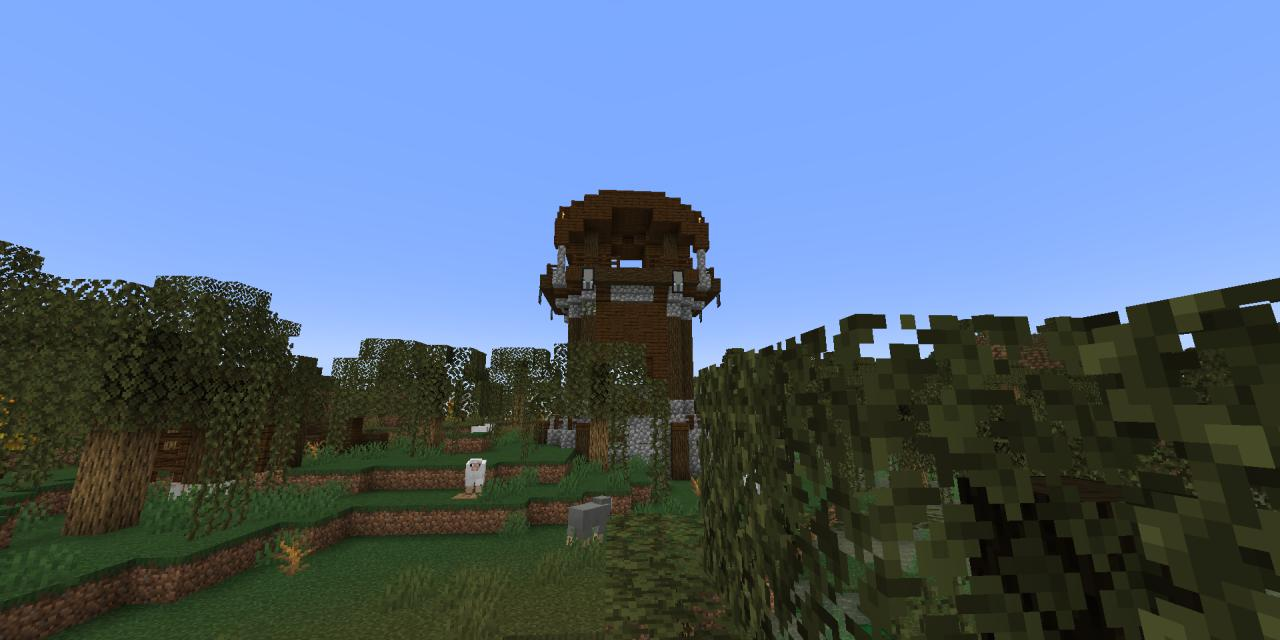pillager outpost: (534, 181, 726, 490)
